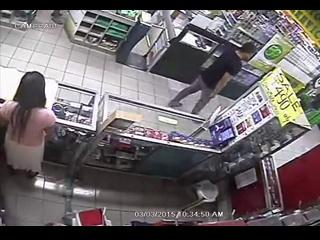Normal: (168, 42, 256, 114), (0, 71, 57, 178)
